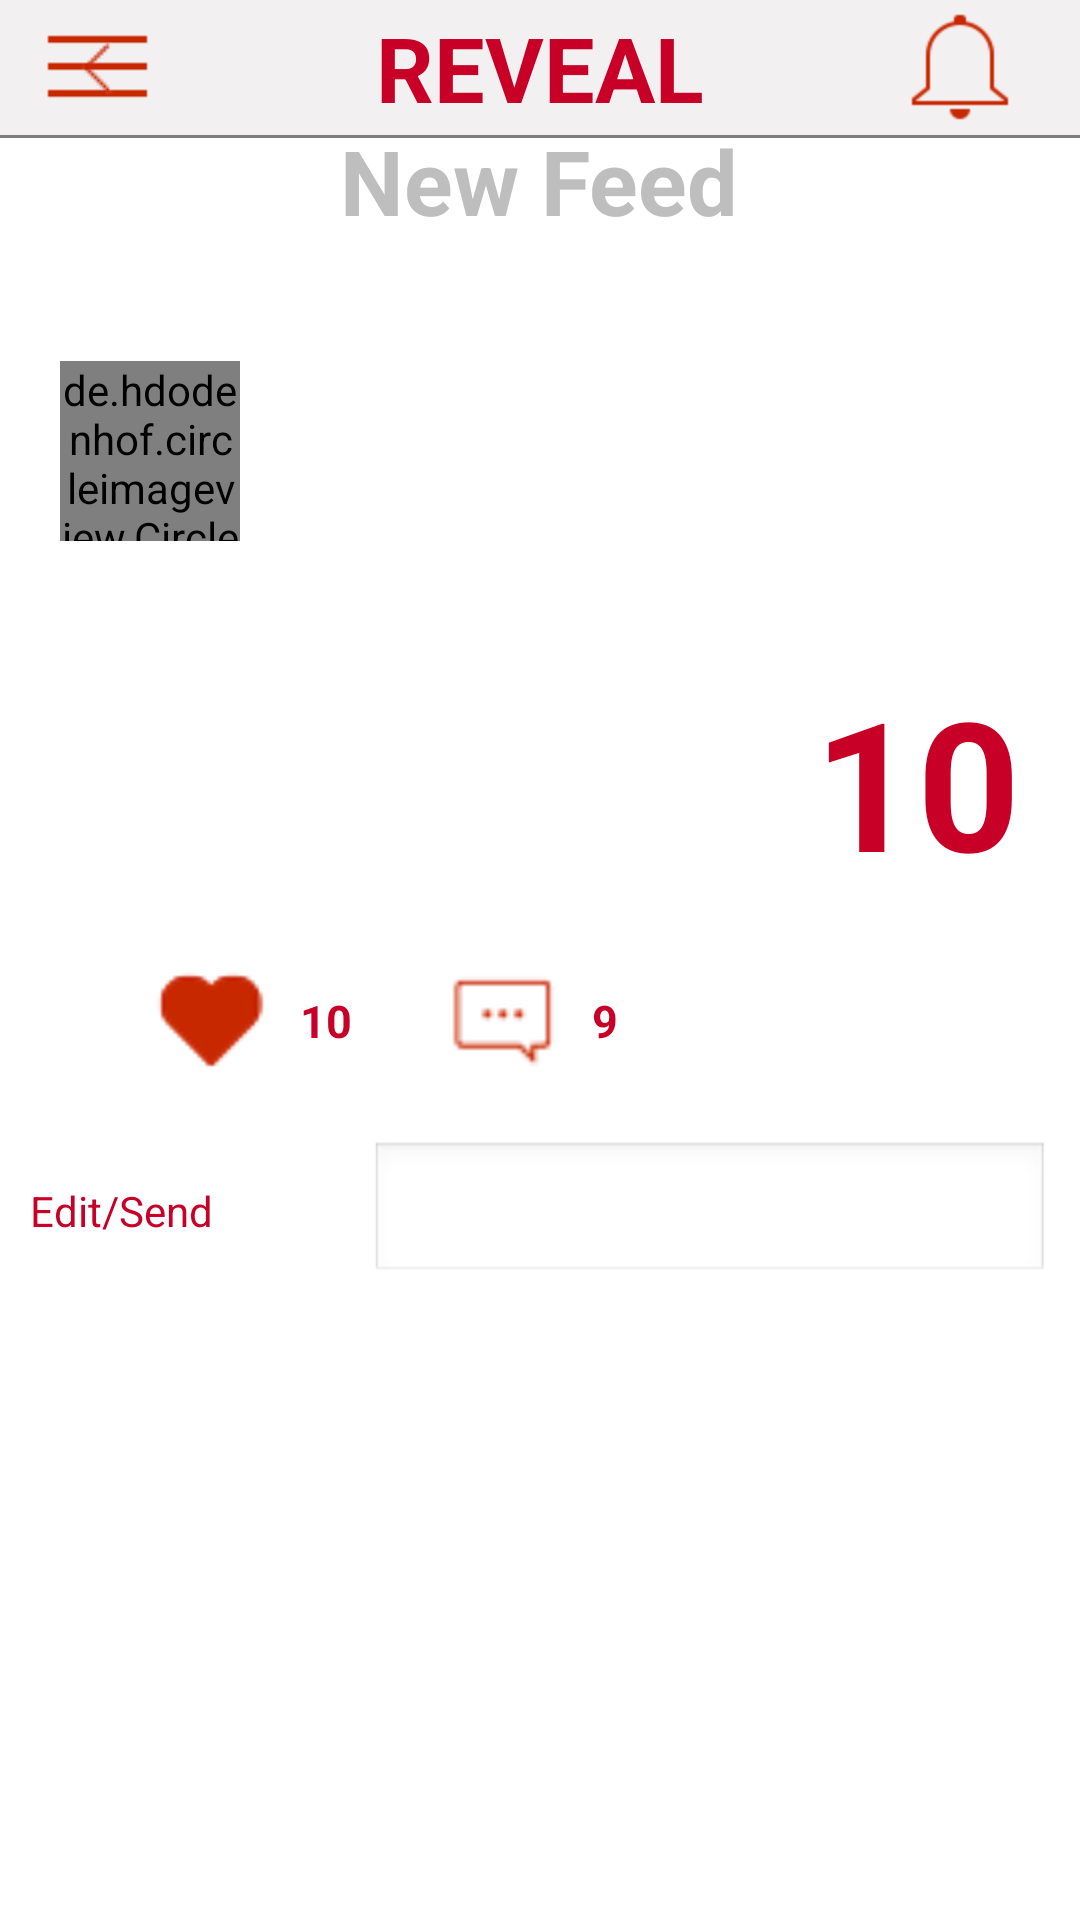

Point at icon controls on the screen. Image size 1080px×1920px, points as [x,y].
bell: [960,67]
comment: [502,1021]
